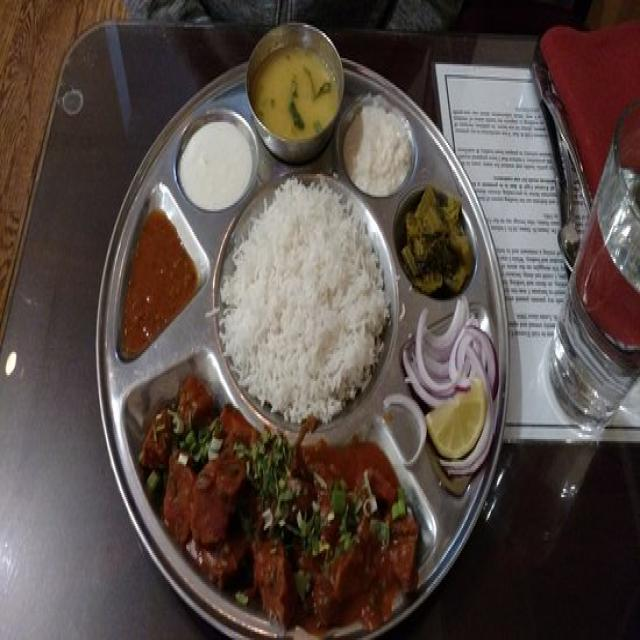non veg meals: (101, 11, 508, 640)
